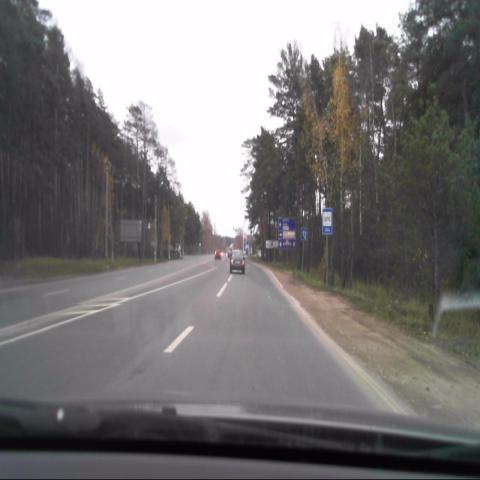7_12: (323, 208, 333, 235)
